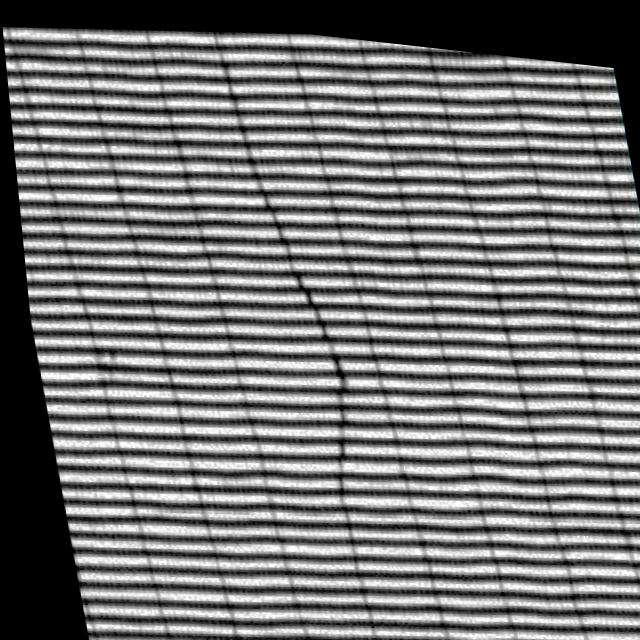Stitch: (226, 171, 395, 544)
